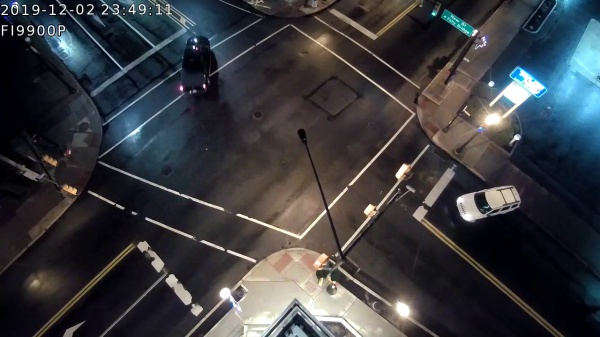car: (454, 182, 524, 226), (176, 31, 216, 98)
